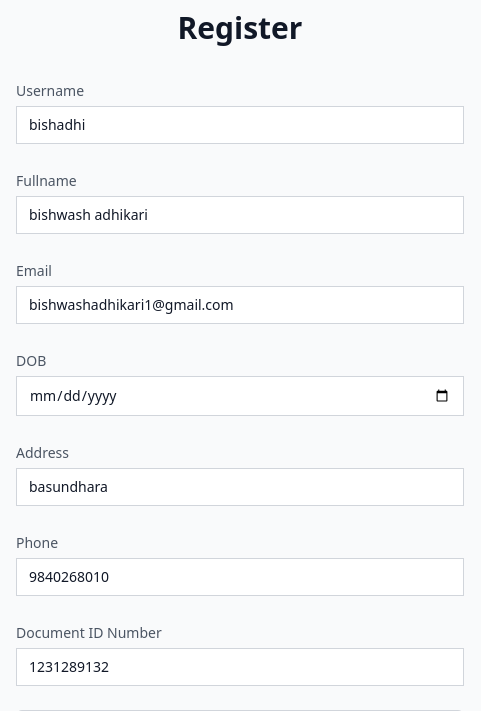
Test case: shows an error if the username is less than 8 characters
The image size is (481, 711).
Replace the text in the field labelled "Username" with "short" at (240, 125), box [16, 106, 464, 144]
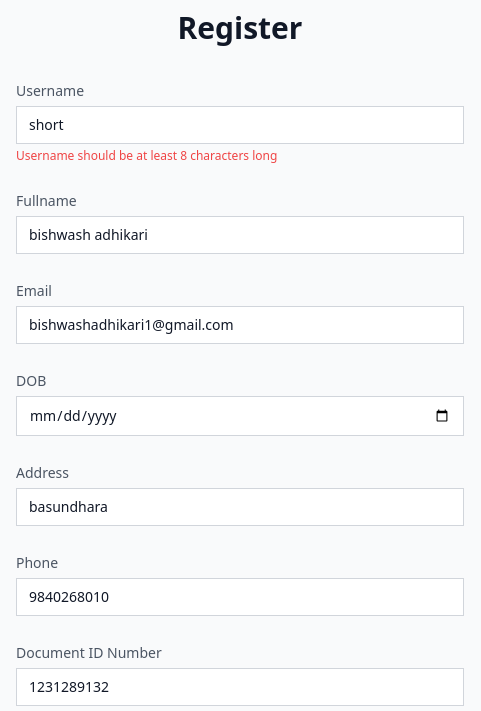
Check: the text "Username should be at least 8 characters long" is shown, box [16, 147, 277, 164]
